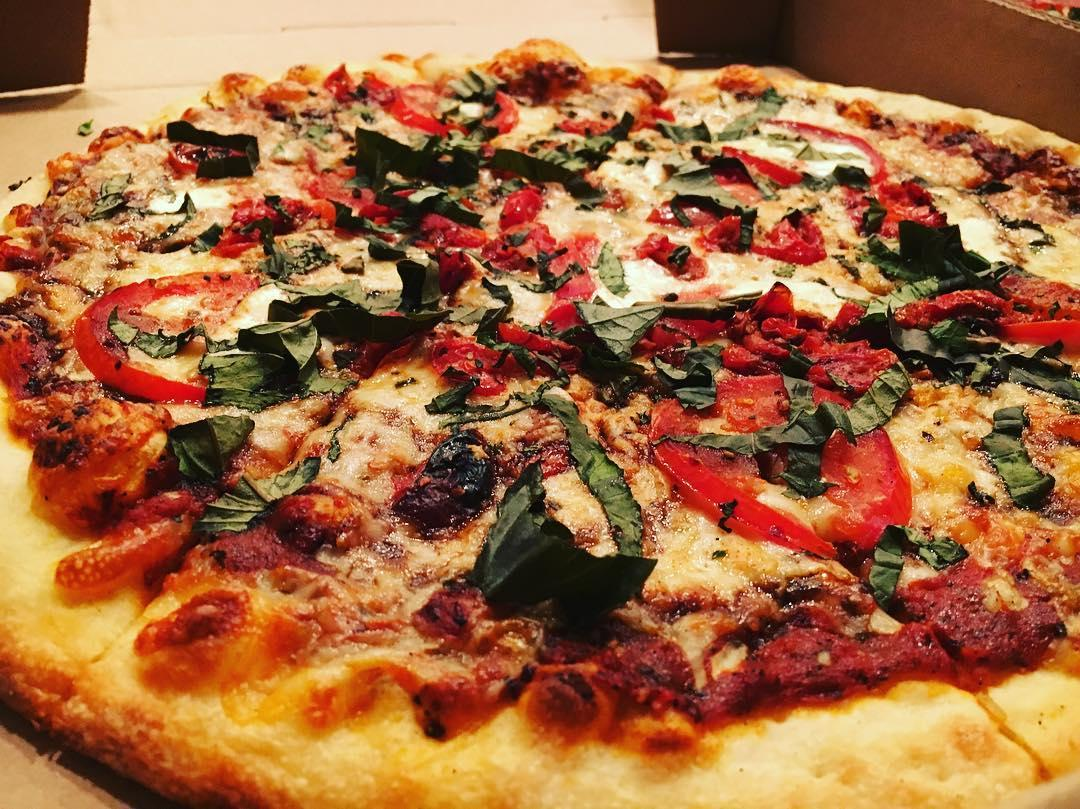Pizza: (0, 51, 1080, 809)
Tomatoes: (648, 375, 915, 554), (74, 270, 261, 404), (229, 190, 488, 261), (654, 303, 899, 375), (899, 279, 1080, 352), (488, 190, 596, 301), (363, 73, 518, 138), (757, 115, 889, 159)
